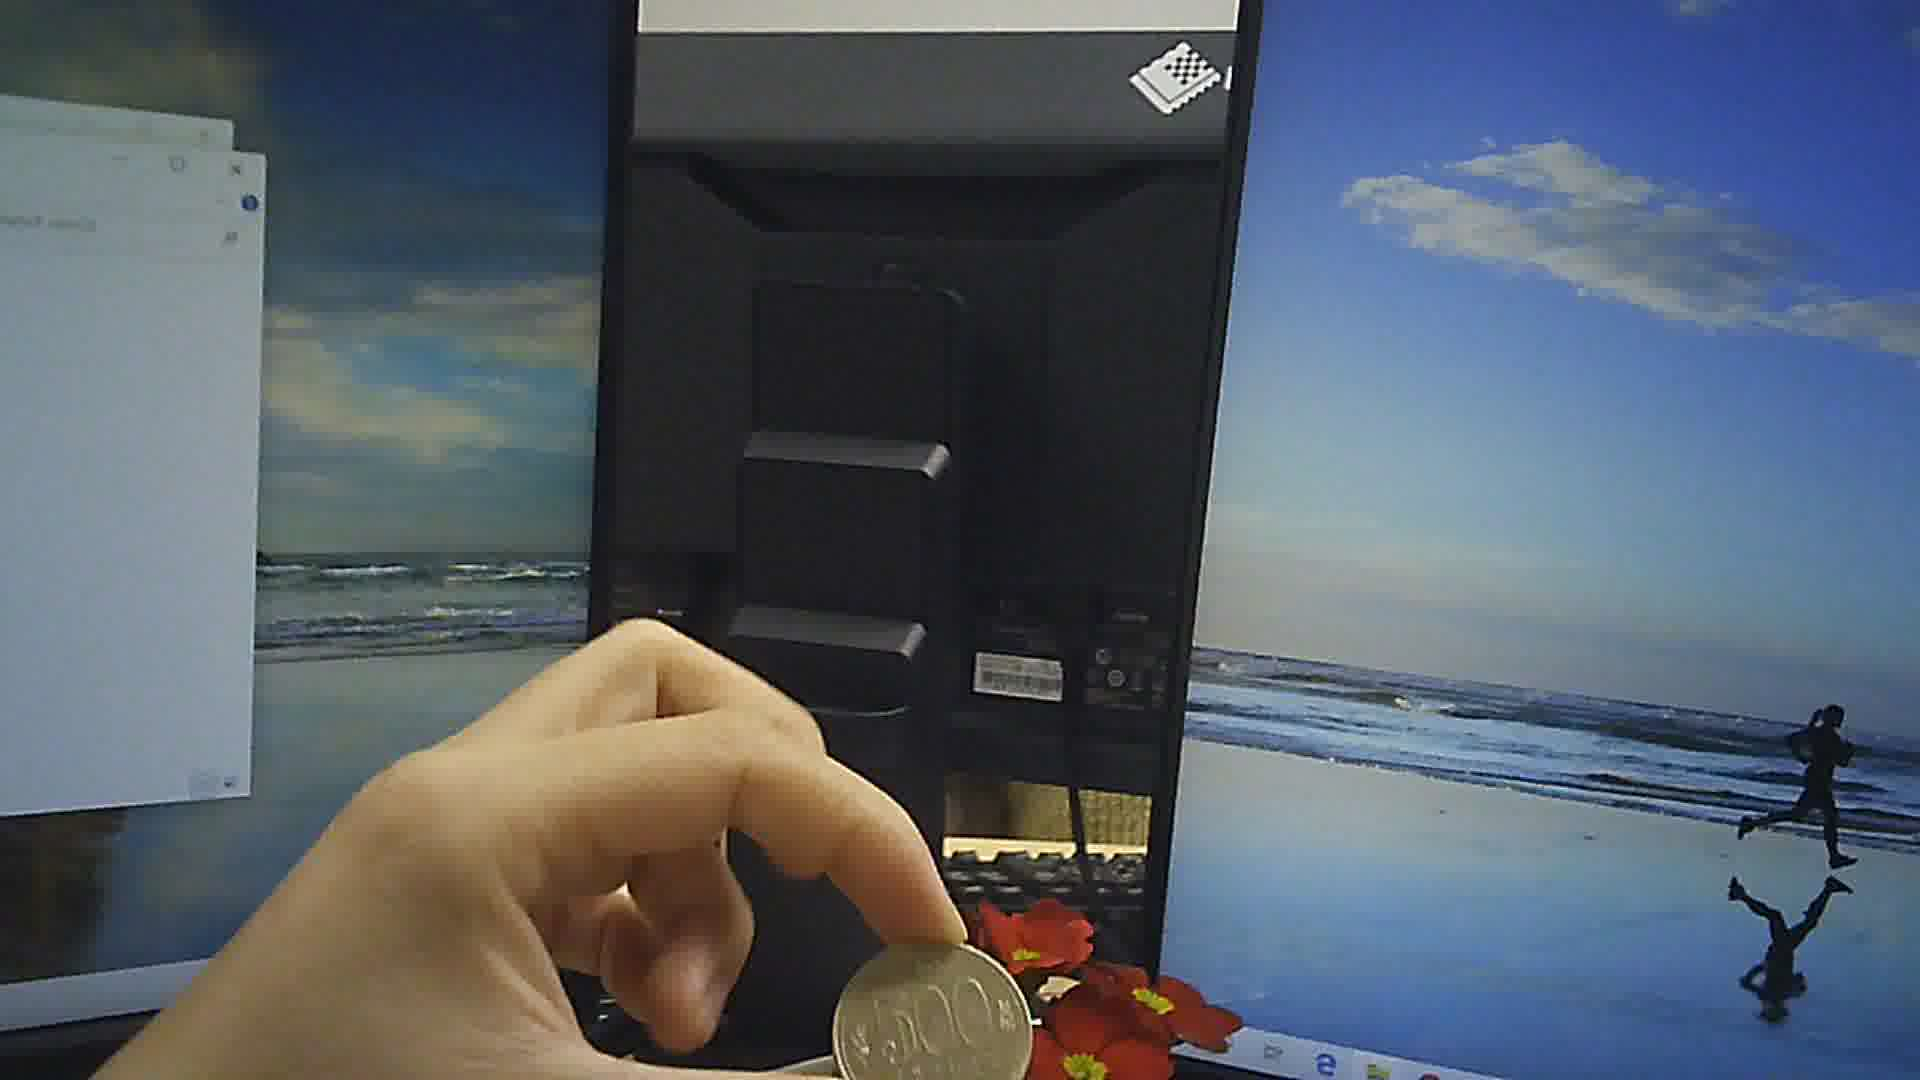500 Yen: (825, 934, 1051, 1079)
